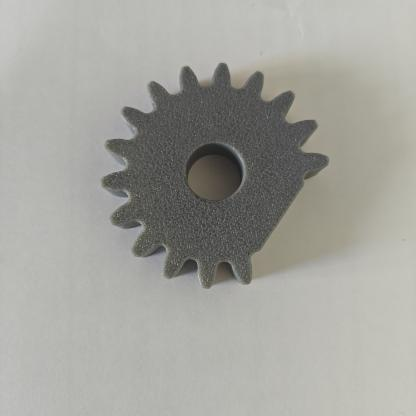defect: (222, 158, 344, 284)
gear: (75, 53, 364, 316)
